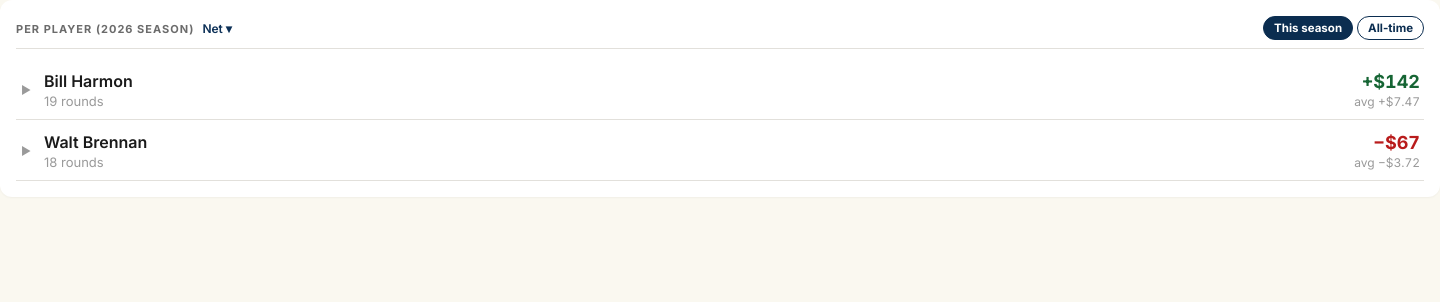
ByPlayerPanel › expands a player's per-round drill on tap
The width and height of the screenshot is (1440, 302).
expect the text "Bill Harmon" is shown: met, box [44,71,133,91]
Click the button with test id "byplayer-row" that starts with "Bill Harmon" at (88, 81), box [16,61,1424,119]
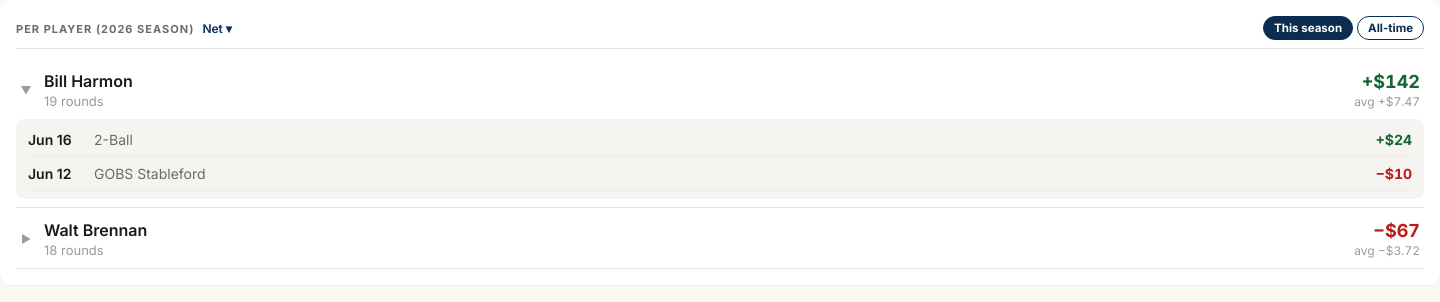
expect the text "GOBS Stableford" is shown: met, box [94,165,206,182]
expect the text "+$24" is shown: met, box [1376,131,1412,148]
